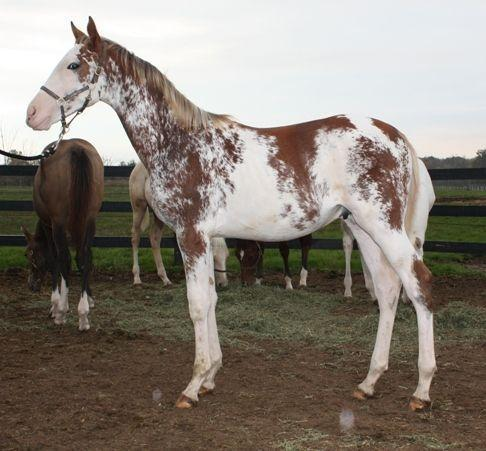horse: (25, 15, 438, 413), (26, 137, 105, 331)
